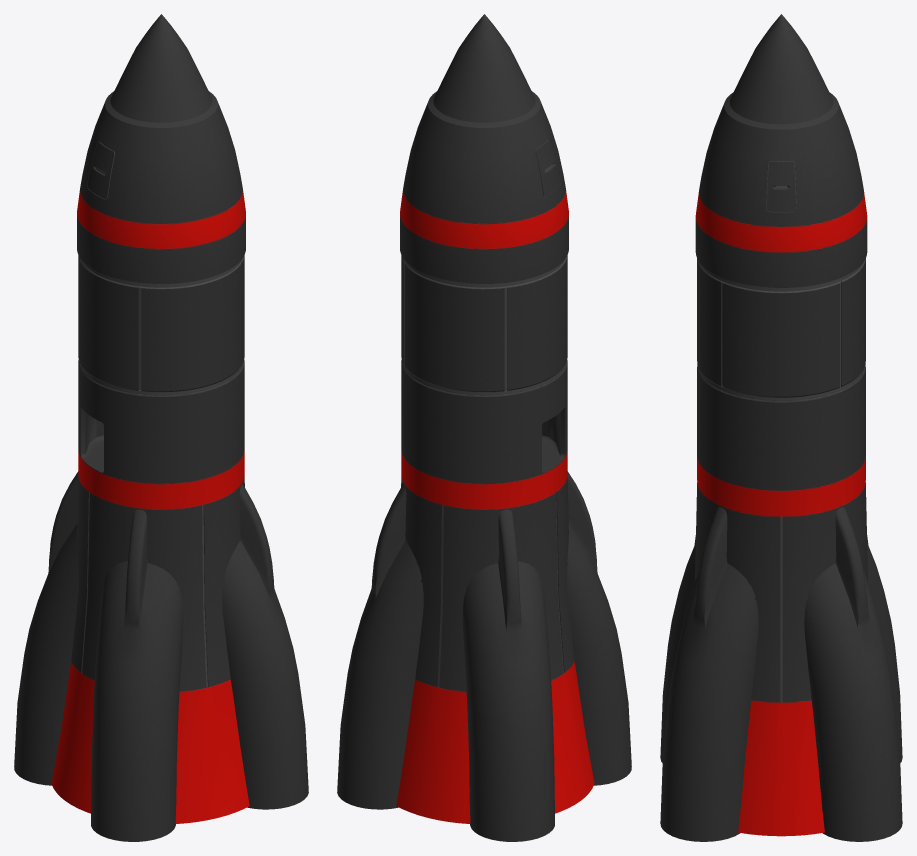
Rendered from RS_rocket.fbx.
3 renders of one model, left to right at view 1: azimuth 30°, elevation 25°; view 2: azimuth 150°, elevation 25°; view 3: azimuth 270°, elevation 25°, orthographic.
Parts seen in each view (by area): view 1: RS_rocket; view 2: RS_rocket; view 3: RS_rocket.
Part boxes in pixels (x1=…): RS_rocket: x1=14, y1=14, x2=308, y2=841; RS_rocket: x1=337, y1=14, x2=631, y2=841; RS_rocket: x1=660, y1=14, x2=902, y2=841.
Size of the model in its own units: 1400 by 4956 by 1400.
